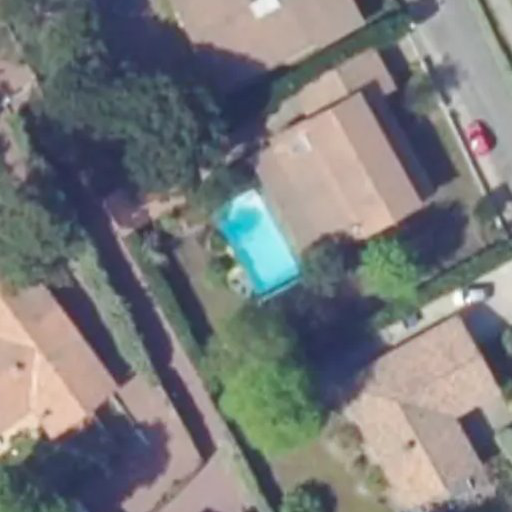pool: (214, 210, 297, 270)
